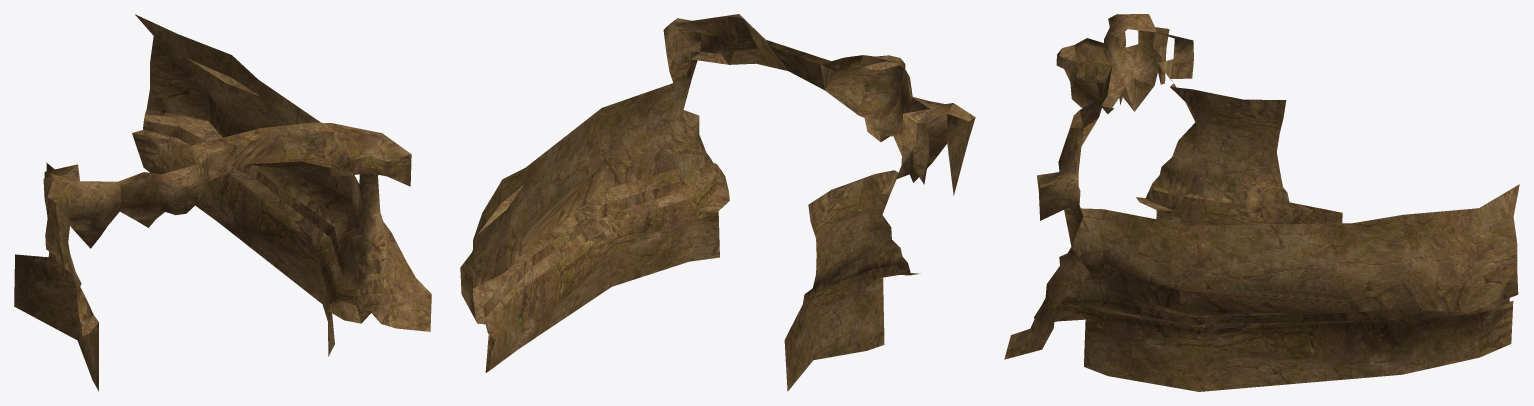
Rendered from S_Rock_Yellow007_2.FBX.
The picture shows the model from 3 angles, left to right: view 1: azimuth 30°, elevation 25°; view 2: azimuth 150°, elevation 25°; view 3: azimuth 270°, elevation 25°; orthographic projection. The views are drawn at different scales.
Visible parts, largest first — view 1: S_Rock_Yellow007_2; view 2: S_Rock_Yellow007_2; view 3: S_Rock_Yellow007_2.
Part boxes in pixels (<box>): S_Rock_Yellow007_2: <box>14,14,431,391</box>; S_Rock_Yellow007_2: <box>460,14,975,391</box>; S_Rock_Yellow007_2: <box>1004,14,1519,391</box>.
Size of the model in its own units: 1161 by 1451 by 812.
